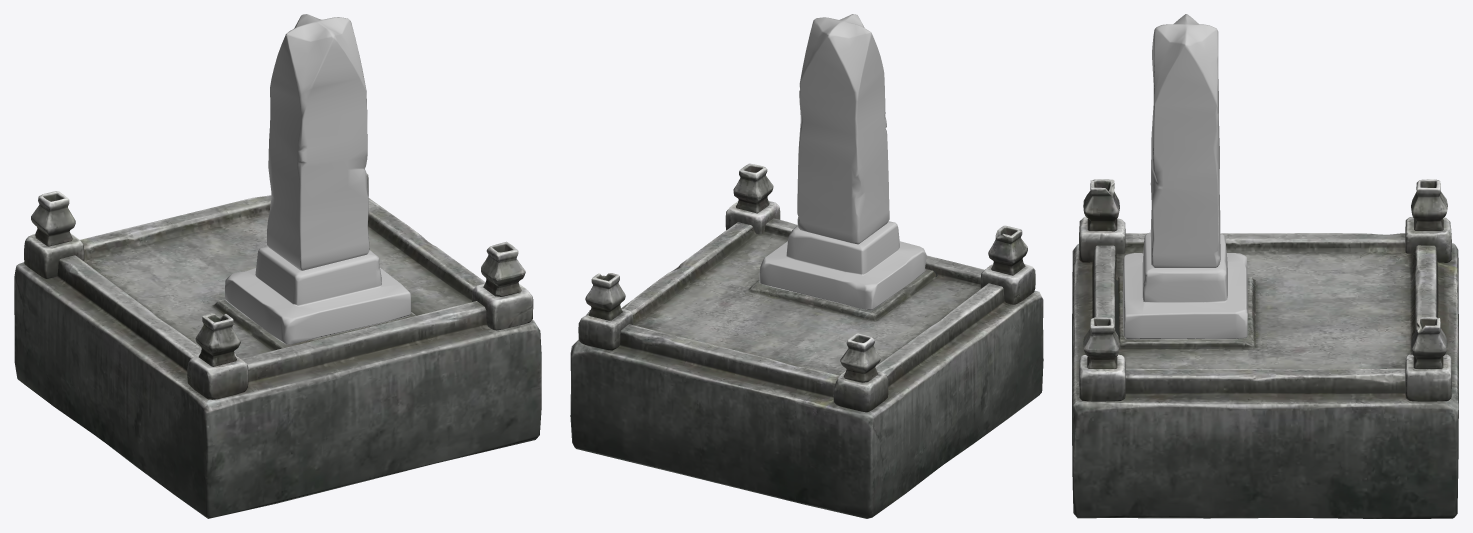
3 renders of one model, left to right at view 1: azimuth 30°, elevation 25°; view 2: azimuth 150°, elevation 25°; view 3: azimuth 270°, elevation 25°, orthographic. The views are drawn at different scales.
Visible parts, largest first — view 1: SM_Tombstone_01v1_LOD0; view 2: SM_Tombstone_01v1_LOD0; view 3: SM_Tombstone_01v1_LOD0.
Boxes of the visible parts, box(x1,y1,x2,y2) form: SM_Tombstone_01v1_LOD0: box(14, 14, 541, 518); SM_Tombstone_01v1_LOD0: box(570, 14, 1043, 518); SM_Tombstone_01v1_LOD0: box(1072, 14, 1458, 518).
Bounding box in the file's own units: 2.7 × 3.21 × 2.7.
